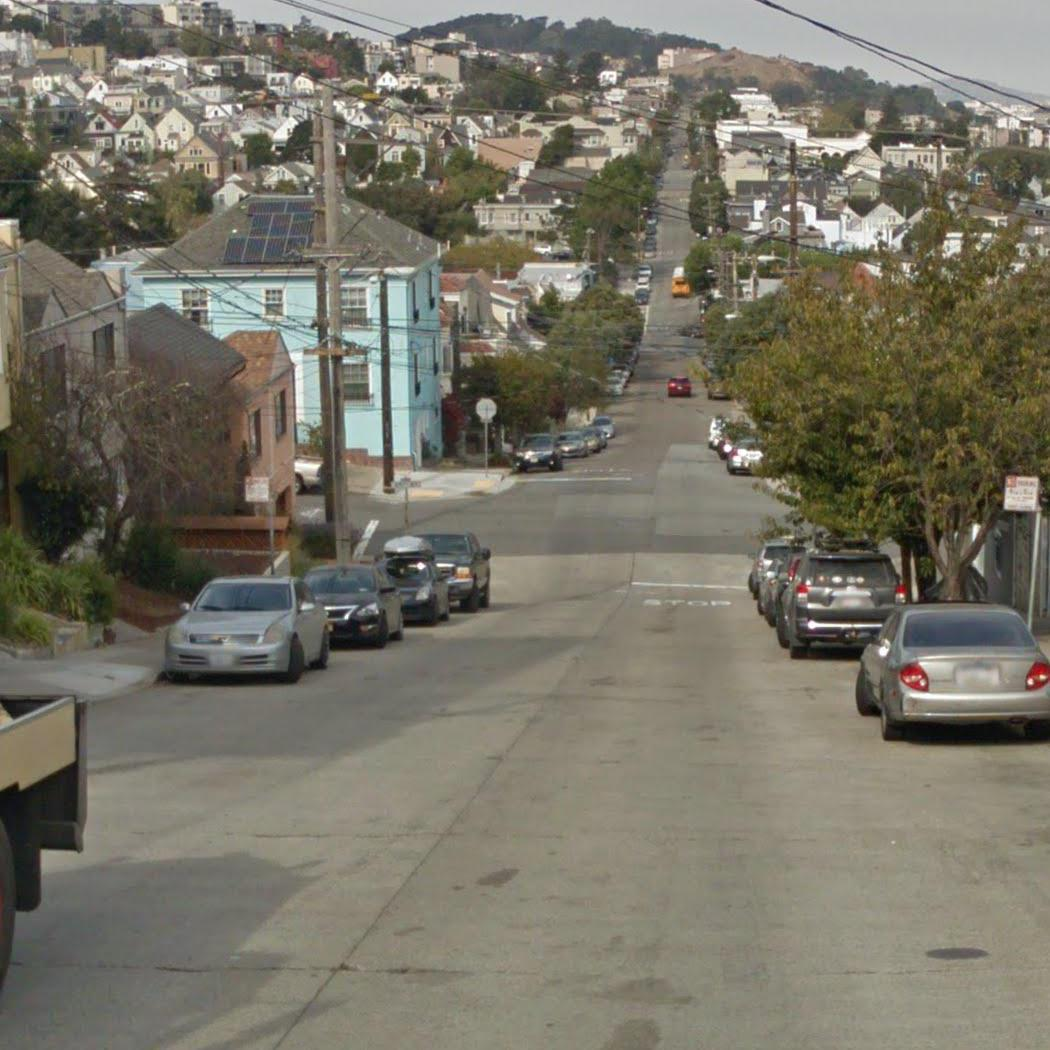No Parking: (1000, 469, 1041, 515), (242, 474, 275, 503)
